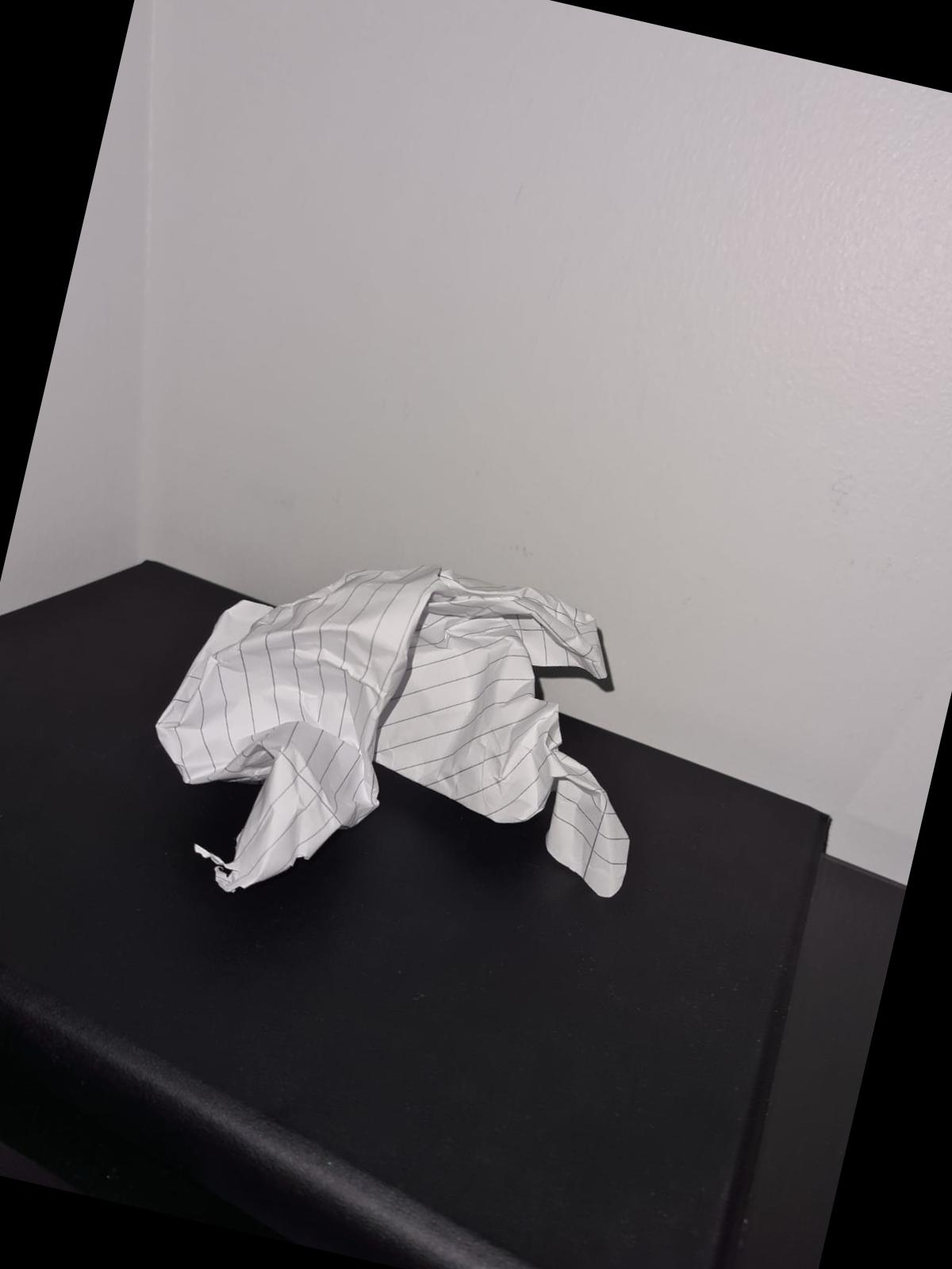Kertas: (138, 557, 650, 912)
